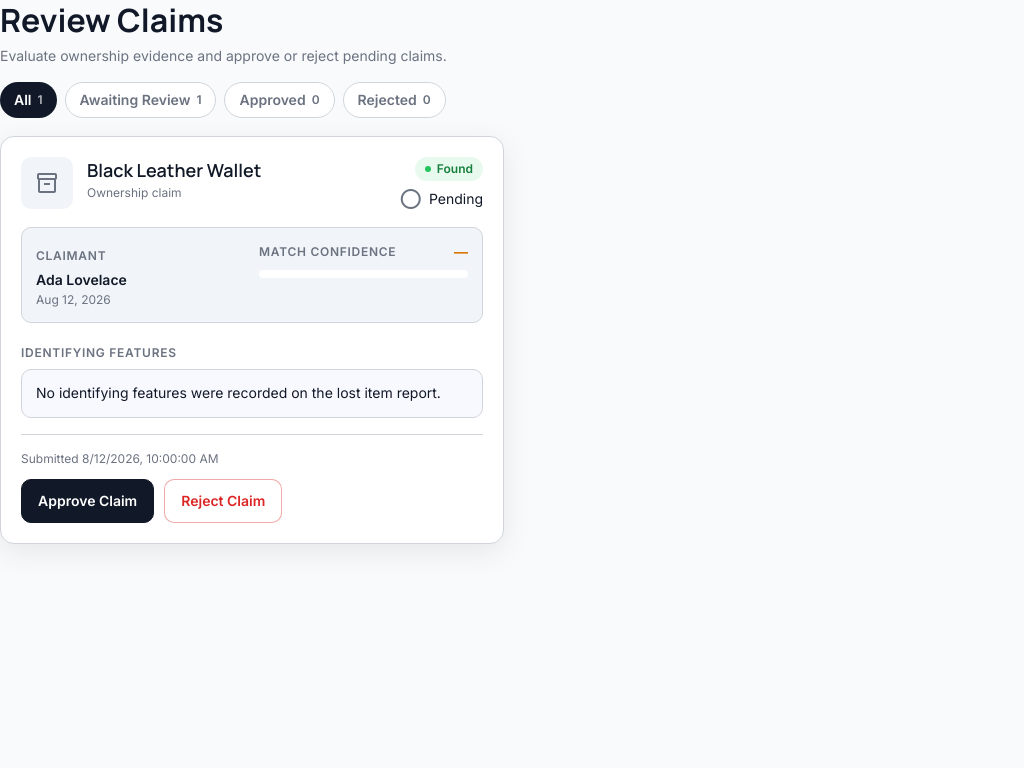
Test: ReviewClaims › opens approve modal when 'Approve Claim' is clicked
Expected: the text "Ownership claim" is shown, [87,185,182,200]
What coordinates should you click on to do the following:
click the button "Approve Claim"
I would click on:
 (88, 501)
Its box is [21,479,154,523].
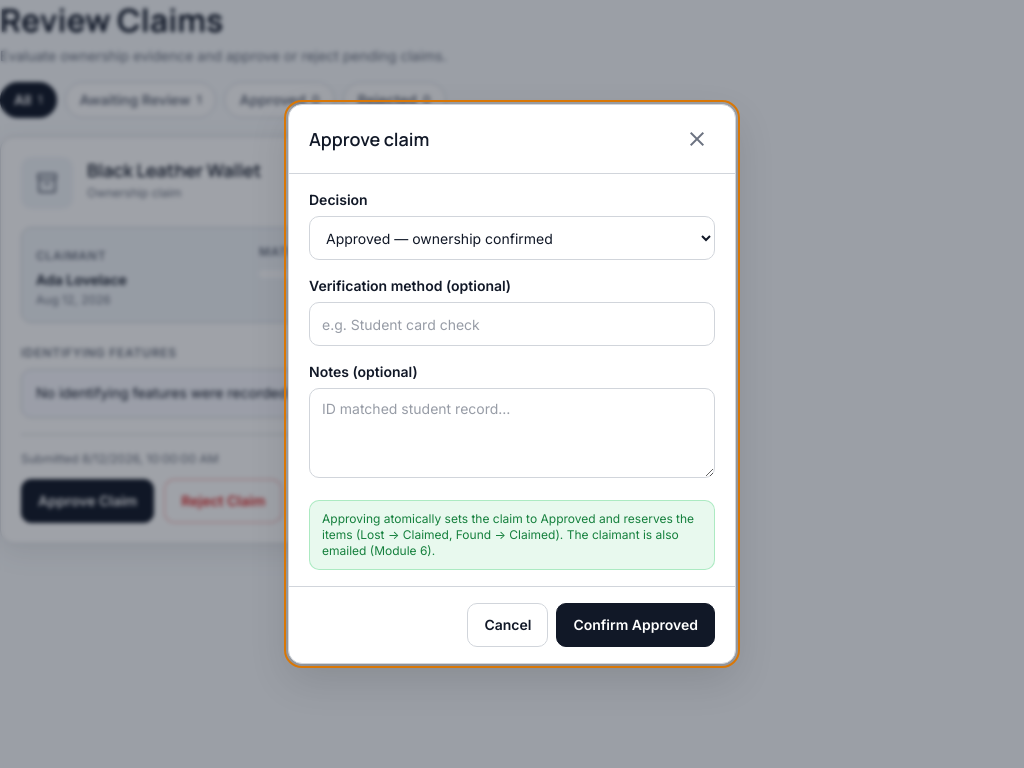
Now the dialog is shown, box [288,104,736,664]
Now the heading "Approve claim" is shown, box [309,126,429,152]
